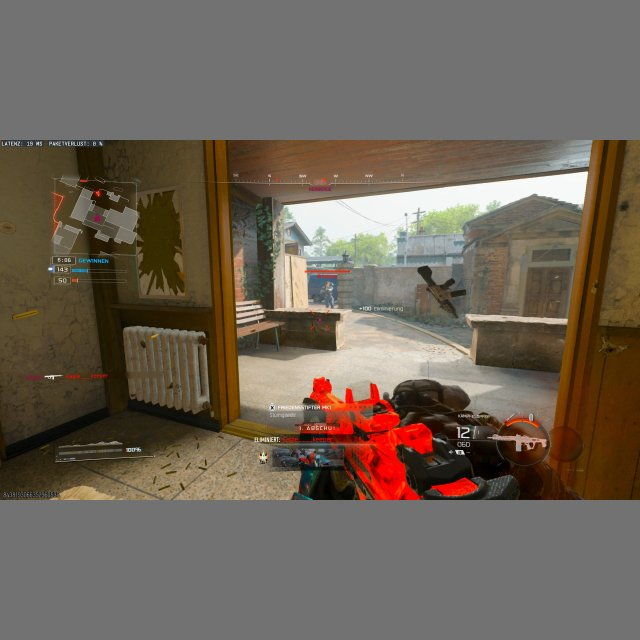player: (322, 281, 335, 310)
